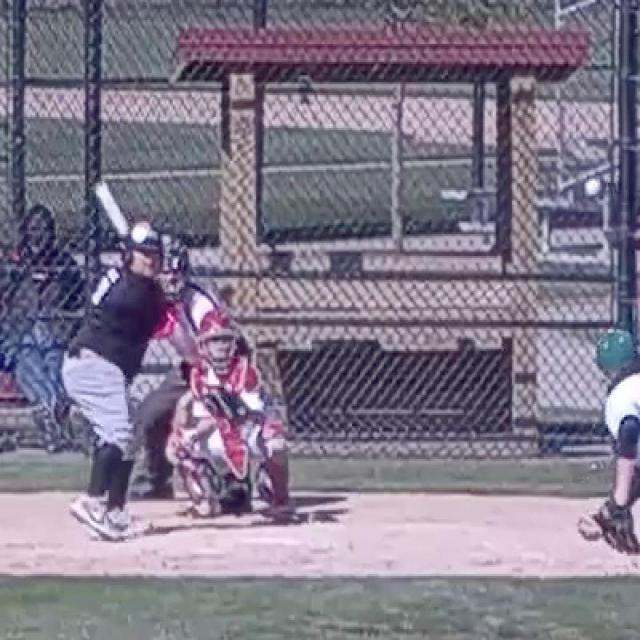baseball: (585, 179, 601, 195)
